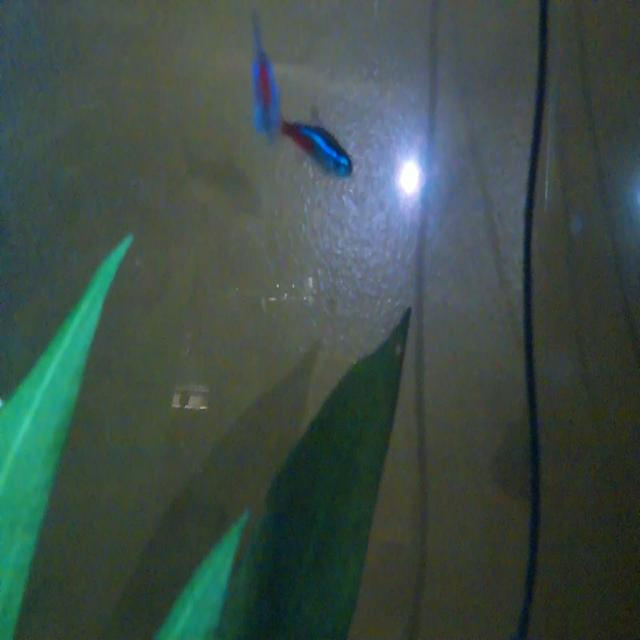fish: (284, 104, 359, 195)
